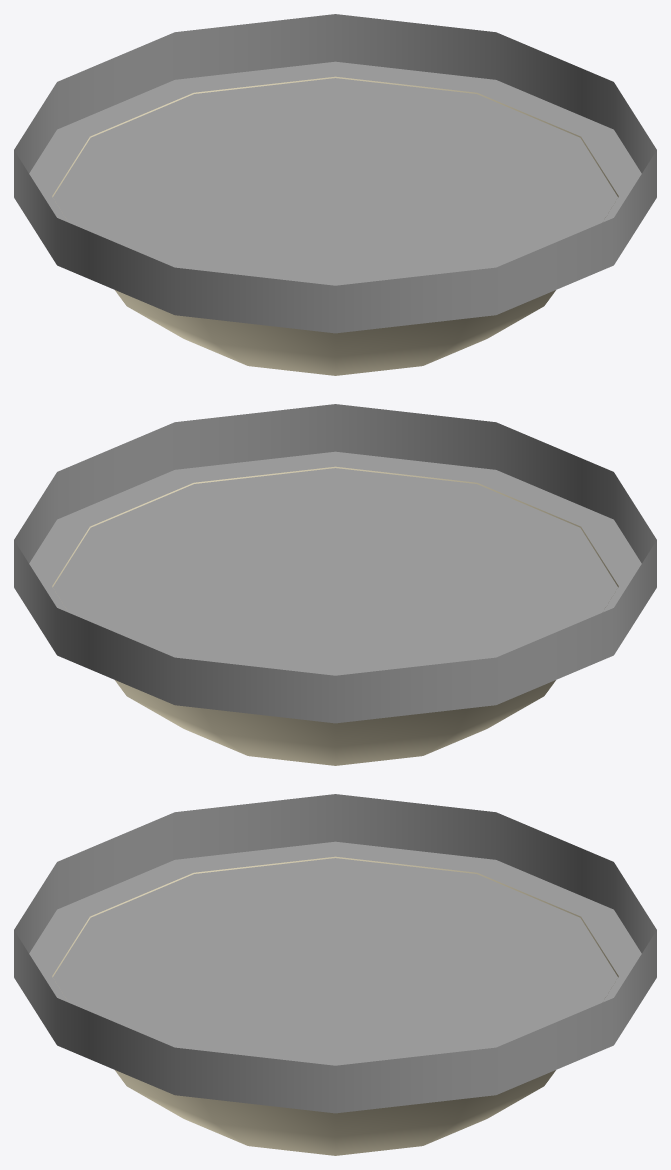
The model's file is light_mdl.fbx.
The picture shows the model from 3 angles, top to bottom: view 1: azimuth 30°, elevation 25°; view 2: azimuth 150°, elevation 25°; view 3: azimuth 270°, elevation 25°; orthographic projection.
Visible parts, largest first — view 1: light_geo; view 2: light_geo; view 3: light_geo.
Part boxes in pixels (<box>): light_geo: <box>14,14,656,375</box>; light_geo: <box>14,404,656,765</box>; light_geo: <box>14,794,656,1155</box>.
Size of the model in its own units: 0.8675 by 0.2862 by 0.8675.
